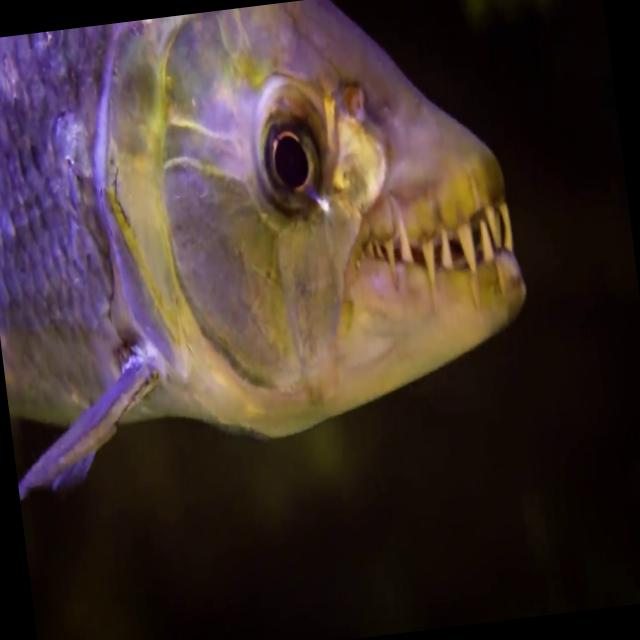fish: (0, 0, 539, 469)
